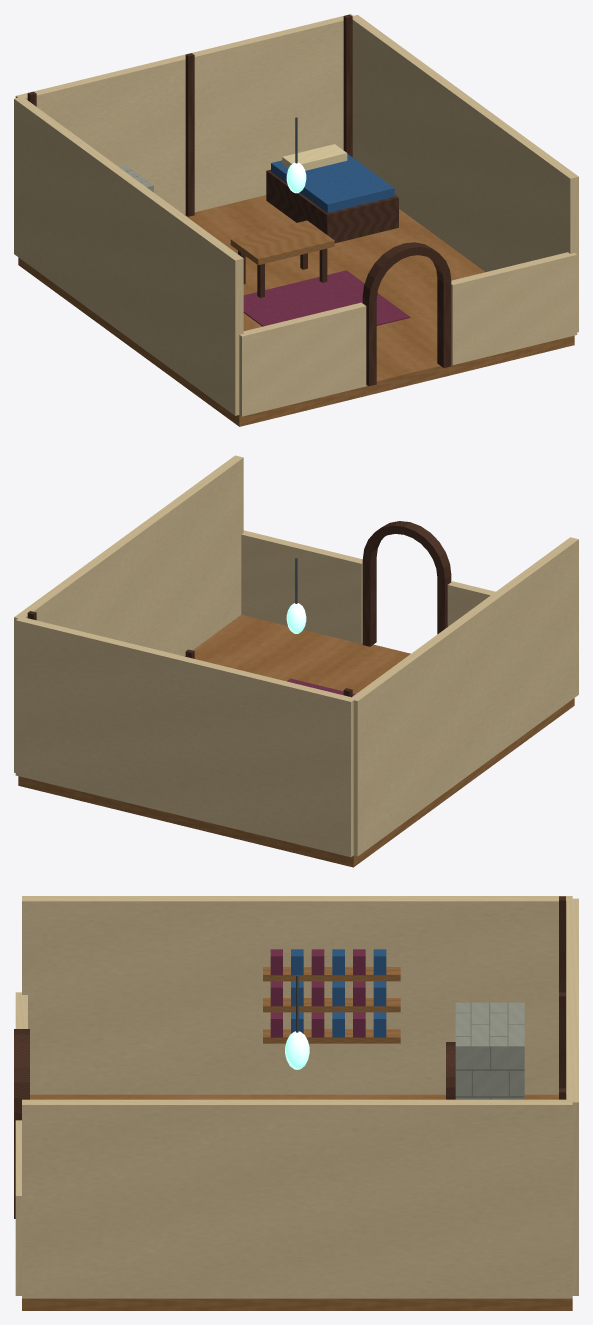
File: interior.glb
The picture shows the model from 3 angles, top to bottom: view 1: azimuth 30°, elevation 25°; view 2: azimuth 150°, elevation 25°; view 3: azimuth 270°, elevation 25°; orthographic projection. The views are drawn at different scales.
Parts seen in each view (by area): view 1: interior; view 2: interior; view 3: interior.
Part boxes in pixels (box(x1,y1,x2,y2)): interior: box(14, 14, 578, 426); interior: box(14, 455, 578, 867); interior: box(14, 896, 578, 1310).
Size of the model in its own units: 7.18 by 3.74 by 8.2.
9 materials, 9 textured.
